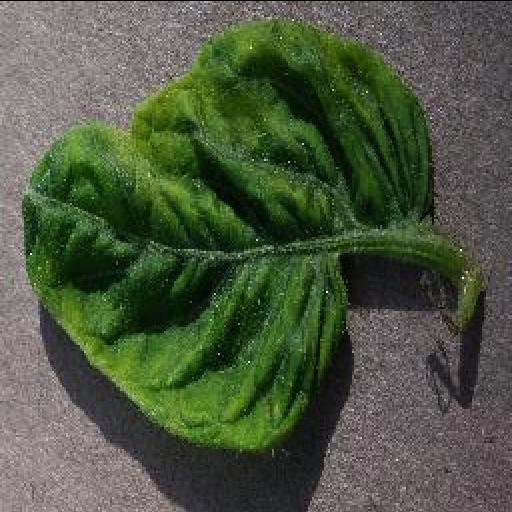disease_tomato: (19, 18, 433, 454)
